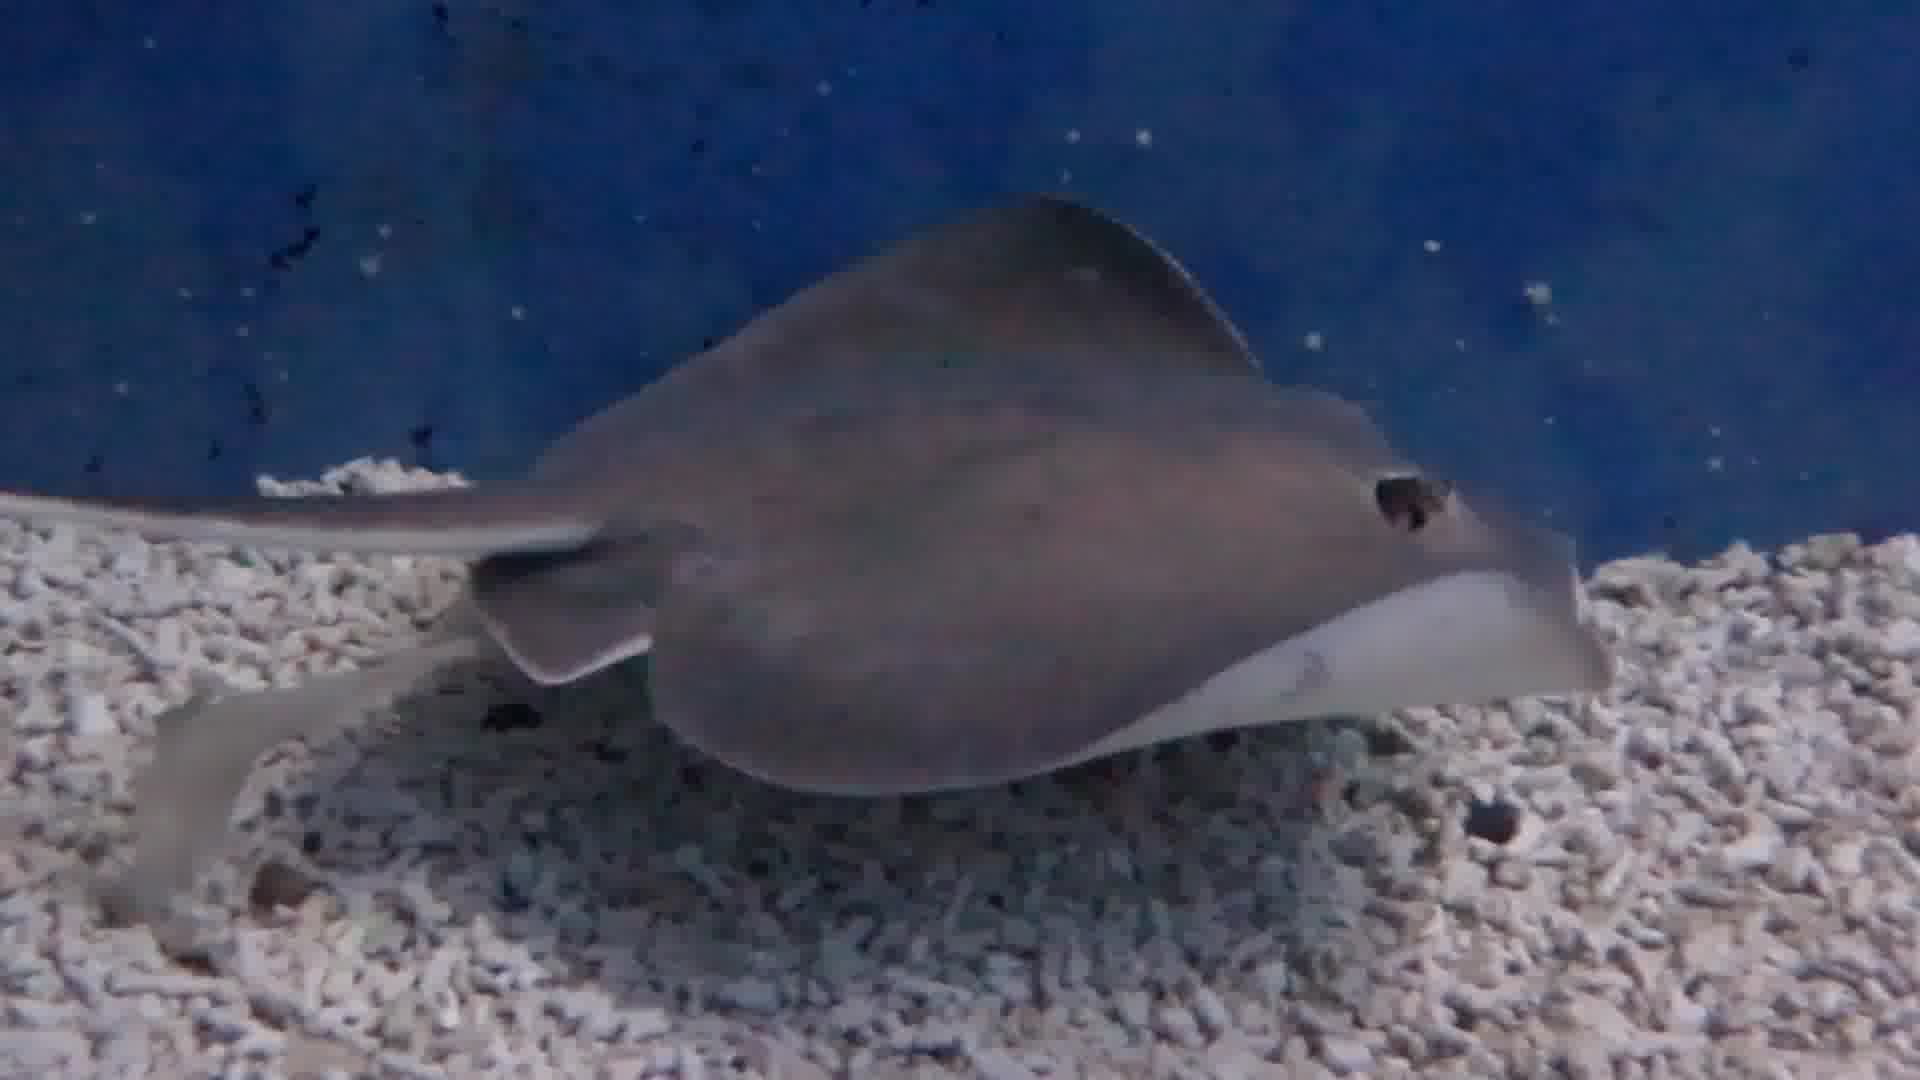Dasyatis bennetti: (384, 80, 1633, 922)
